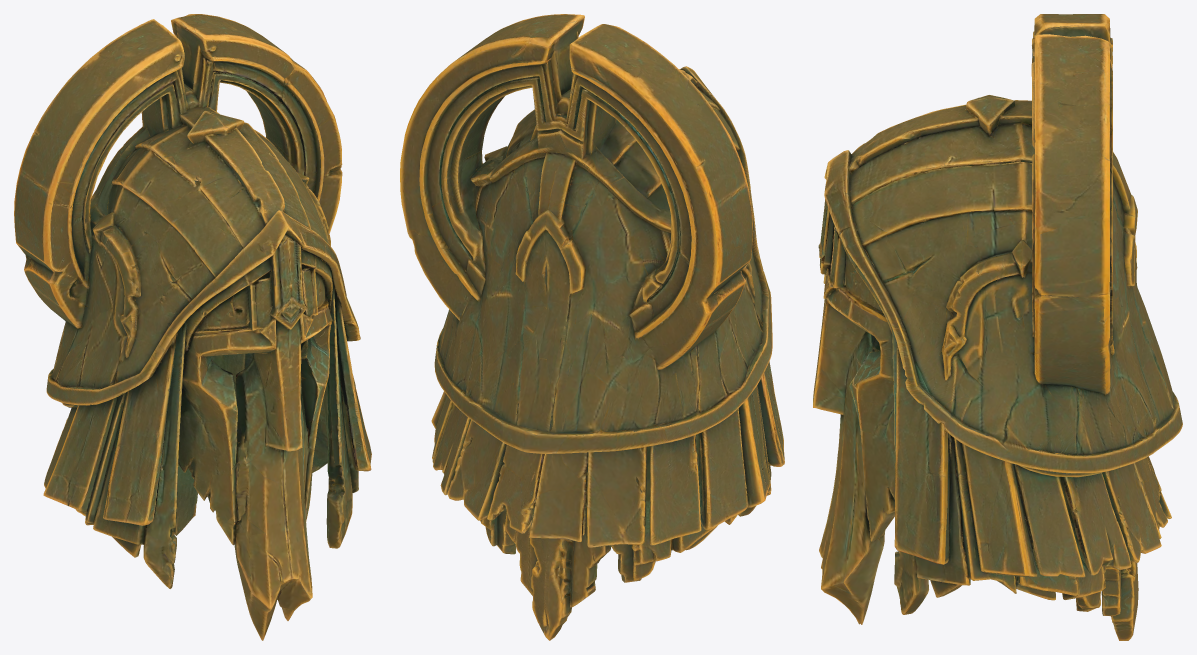
The model's file is fallen-saint-head-veiled-oracle.glb.
3 views of the same model, side by side, from view 1: azimuth 30°, elevation 25°; view 2: azimuth 150°, elevation 25°; view 3: azimuth 270°, elevation 25° (orthographic). The views are drawn at different scales.
Visible parts, largest first — view 1: Mesh_0; view 2: Mesh_0; view 3: Mesh_0.
Part boxes in pixels (x1,y1,x2,y2): Mesh_0: [14, 14, 371, 640]; Mesh_0: [400, 14, 784, 640]; Mesh_0: [813, 14, 1182, 640].
Size of the model in its own units: 1.11 by 1.9 by 1.04.
Materials: 1 (1 with a texture image).
